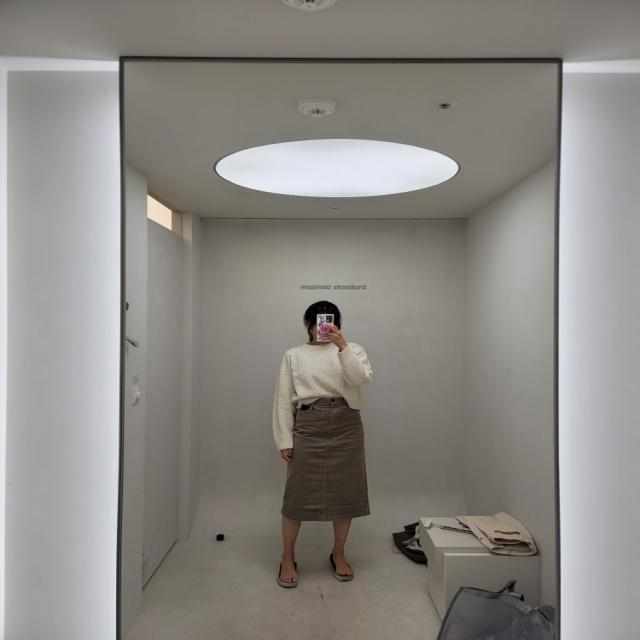skirt: (282, 395, 371, 519)
sweater: (274, 339, 372, 452)
